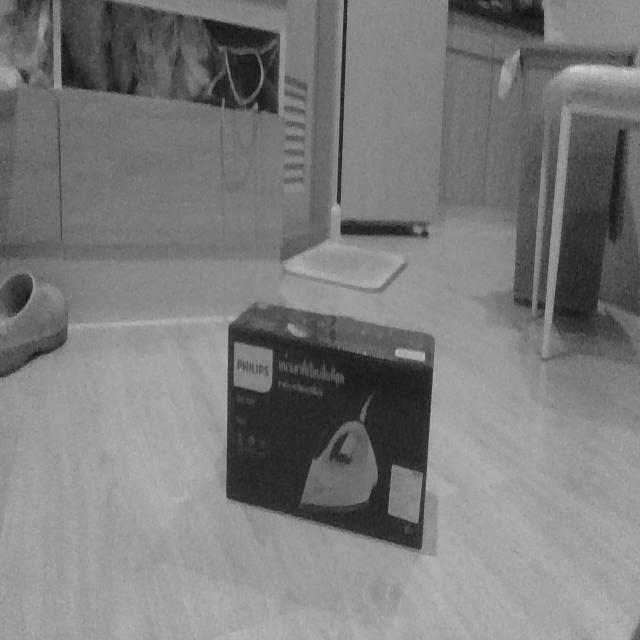IRON: (223, 297, 437, 554)
